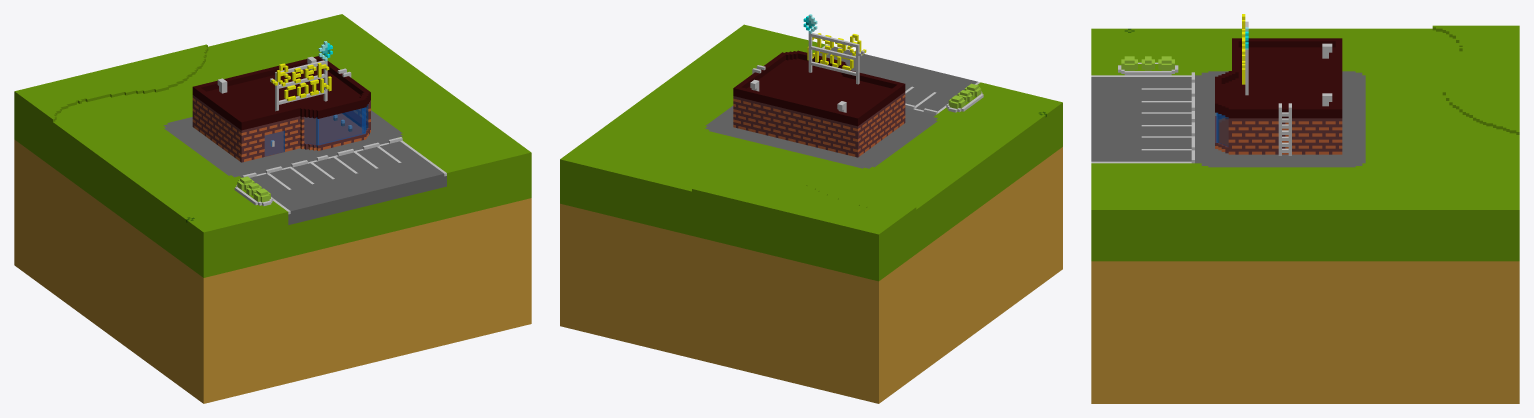
3 renders of one model, left to right at view 1: azimuth 30°, elevation 25°; view 2: azimuth 150°, elevation 25°; view 3: azimuth 270°, elevation 25°, orthographic. The views are drawn at different scales.
Visible parts, largest first — view 1: 5B.001, water.003; view 2: 5B.001; view 3: 5B.001.
Boxes of the visible parts, x1,y1,x2,y2 form: 5B.001: (14, 14, 531, 403); water.003: (316, 107, 365, 147); 5B.001: (560, 14, 1062, 403); 5B.001: (1091, 14, 1519, 403).
Size of the model in its own units: 12.8 by 9.9 by 12.8.
5 materials, 1 textured.
